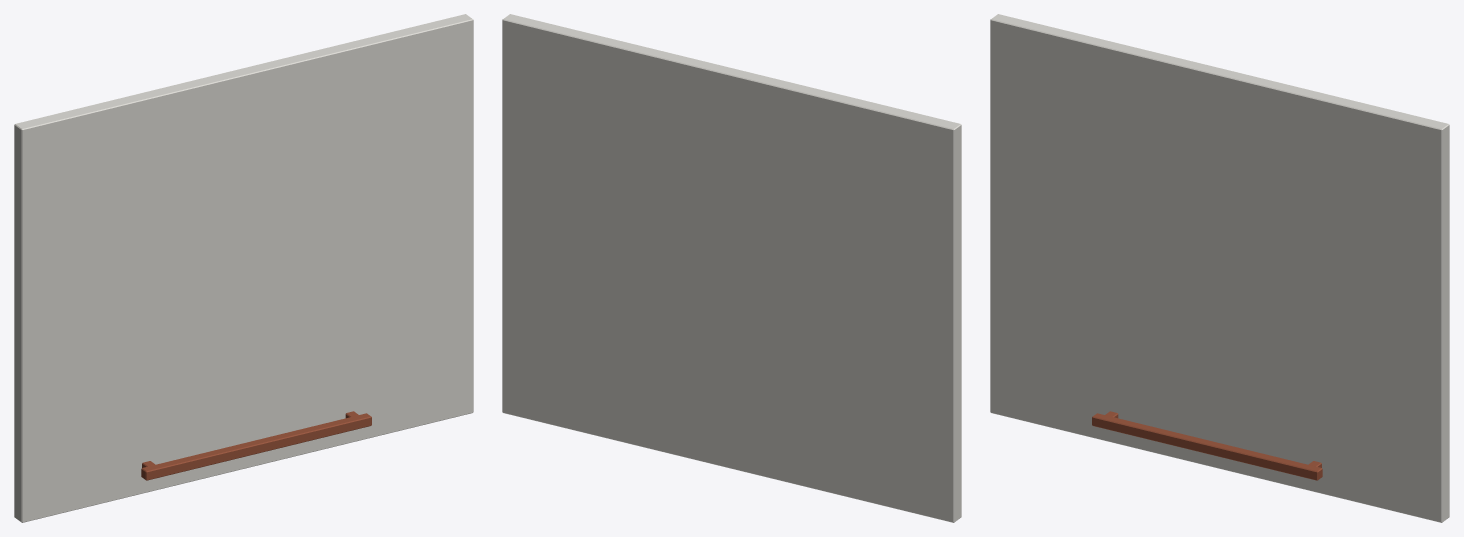
File: kitchen_run_appliances_long_w5_flap.glb
3 views of the same model, side by side, from view 1: azimuth 30°, elevation 25°; view 2: azimuth 150°, elevation 25°; view 3: azimuth 330°, elevation 25° (orthographic).
Parts seen in each view (by area): view 1: kitchen_run_appliances_long_w5_flap; view 2: kitchen_run_appliances_long_w5_flap; view 3: kitchen_run_appliances_long_w5_flap.
Boxes of the visible parts, x1,y1,x2,y2 form: kitchen_run_appliances_long_w5_flap: (14,14,473,522); kitchen_run_appliances_long_w5_flap: (502,14,961,522); kitchen_run_appliances_long_w5_flap: (990,14,1449,522).
Size of the model in its own units: 0.597 by 0.497 by 0.044.
